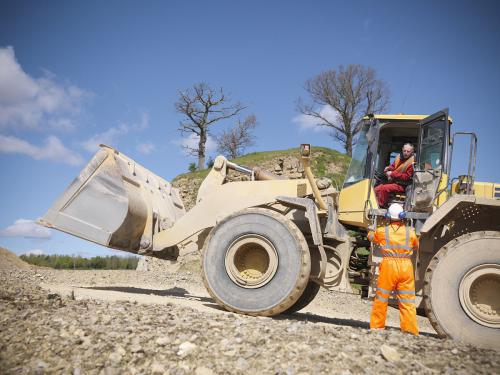head: (400, 140, 418, 165)
helmet: (387, 204, 409, 228)
